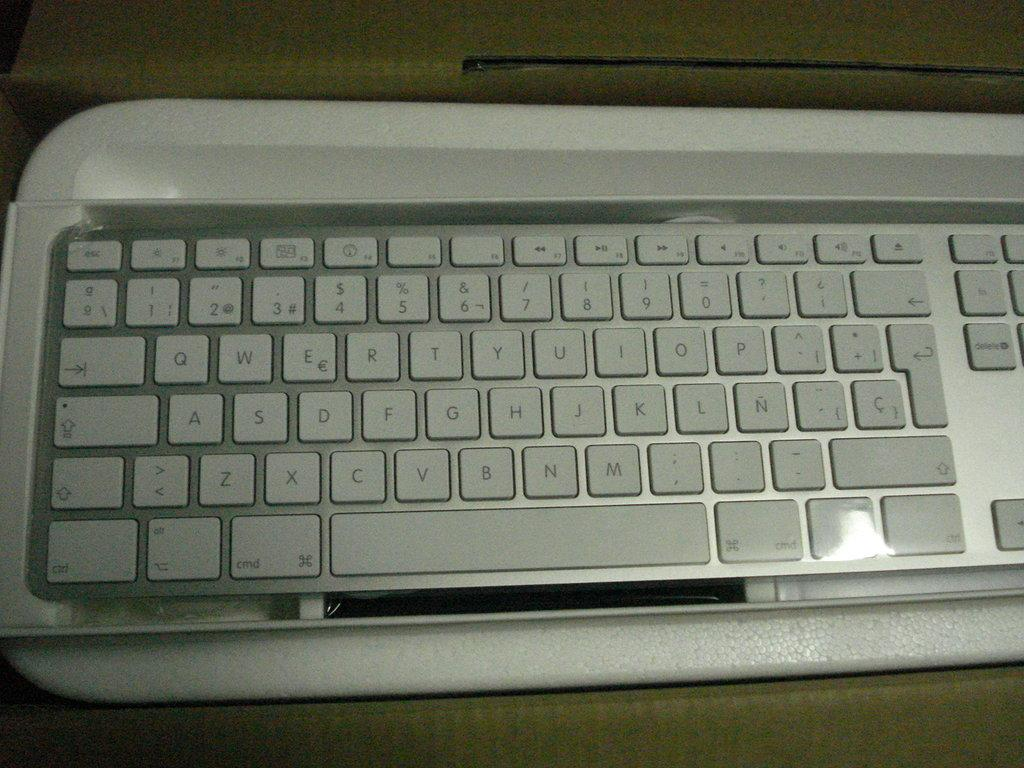Computer-keyboard: (0, 97, 1023, 706)
